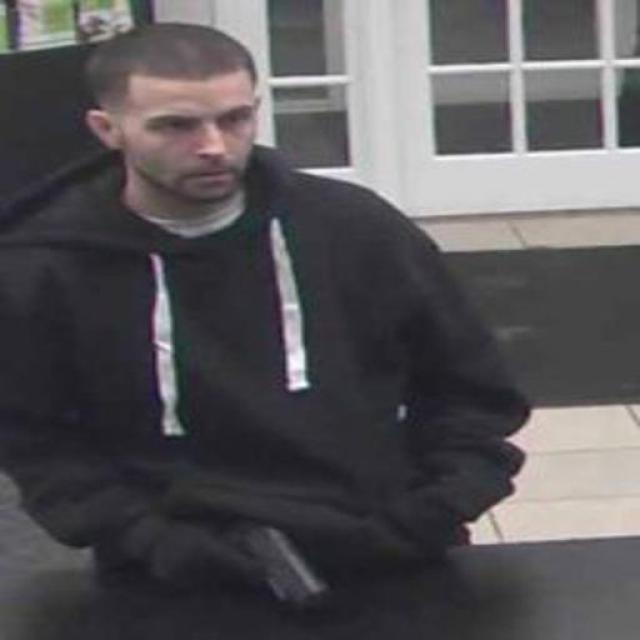pistol: (201, 520, 335, 611)
